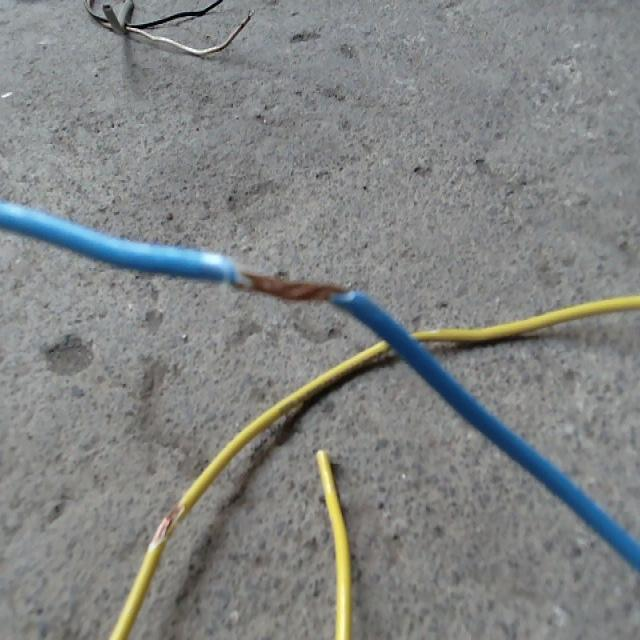-: (227, 259, 352, 309), (152, 502, 184, 546)
